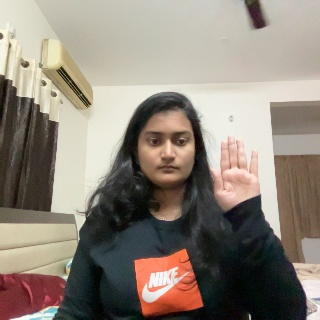Face: (130, 101, 200, 186)
Hello: (208, 135, 266, 226)
